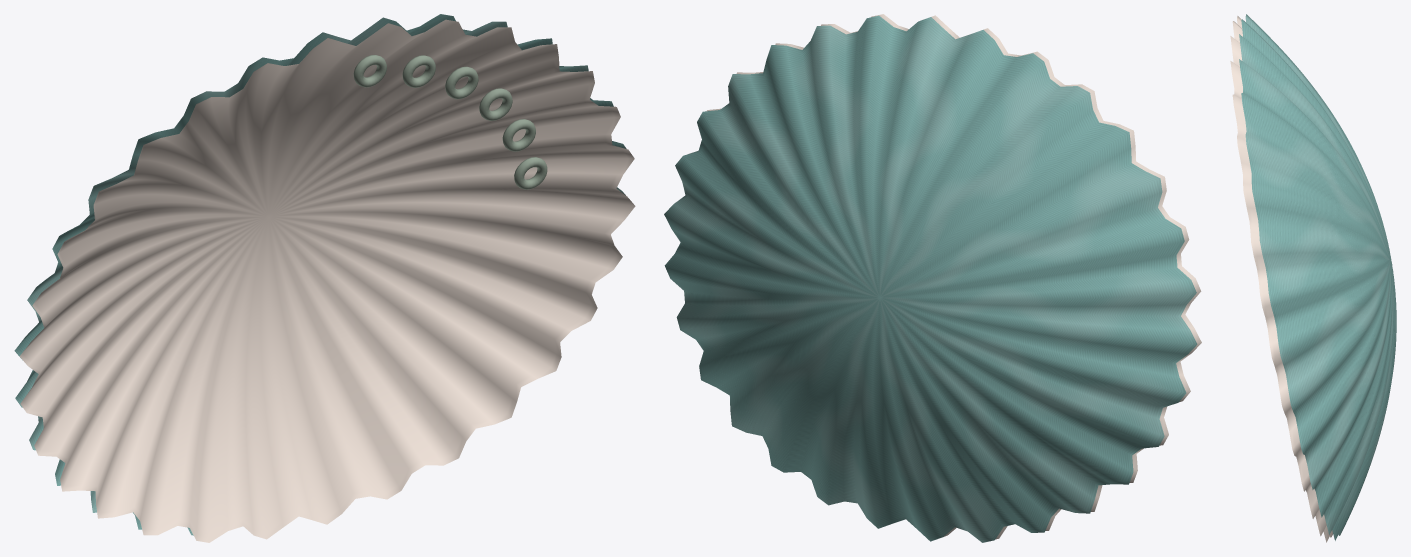
File: abalone.glb
The picture shows the model from 3 angles, left to right: view 1: azimuth 30°, elevation 25°; view 2: azimuth 150°, elevation 25°; view 3: azimuth 270°, elevation 25°; orthographic projection. The views are drawn at different scales.
Visible parts, largest first — view 1: abalone.001; view 2: abalone.001; view 3: abalone.001.
Boxes of the visible parts, x1,y1,x2,y2 form: abalone.001: (14, 14, 635, 542); abalone.001: (664, 14, 1201, 542); abalone.001: (1230, 14, 1396, 542).
Size of the model in its own units: 2.5 by 2.13 by 0.6905.
8 materials, 1 textured.
